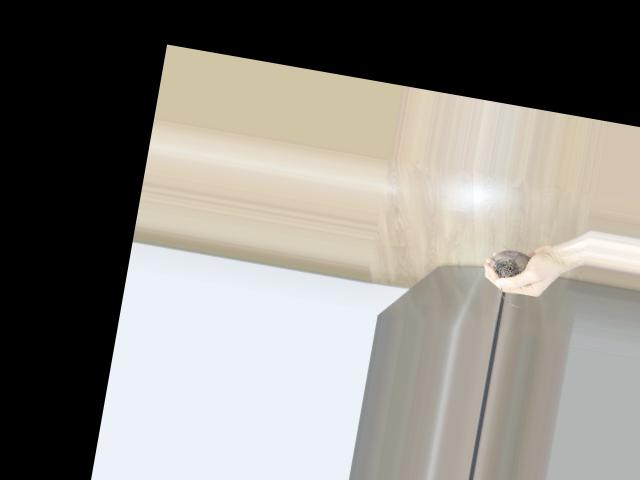beet: (482, 246, 531, 308)
